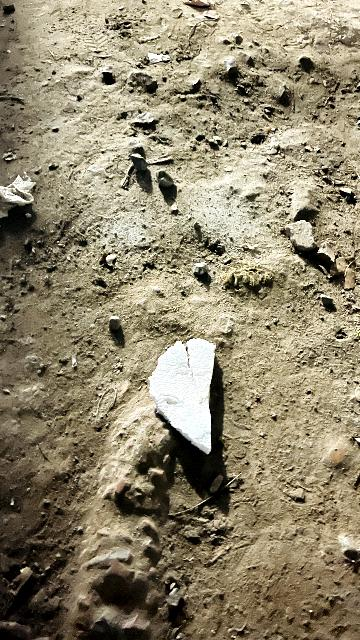cocksheet: (147, 330, 222, 455)
